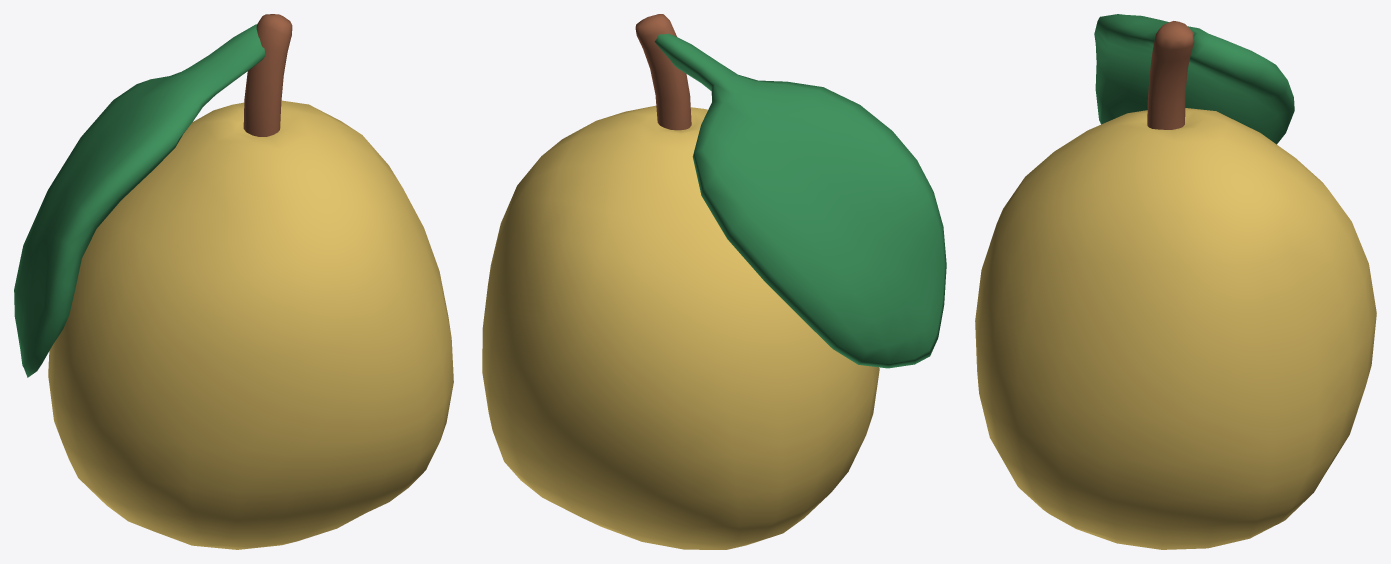
The model's file is Pear_03.dae.
3 renders of one model, left to right at view 1: azimuth 30°, elevation 25°; view 2: azimuth 150°, elevation 25°; view 3: azimuth 270°, elevation 25°, orthographic. The views are drawn at different scales.
Visible parts, largest first — view 1: Pear_03_LOD0; view 2: Pear_03_LOD0; view 3: Pear_03_LOD0.
Part boxes in pixels (x1,y1,x2,y2): Pear_03_LOD0: (14,14,453,549); Pear_03_LOD0: (482,14,946,549); Pear_03_LOD0: (975,14,1376,549).
Size of what is drawn, in the model's own units: 3.96 by 3.25 by 4.62.
